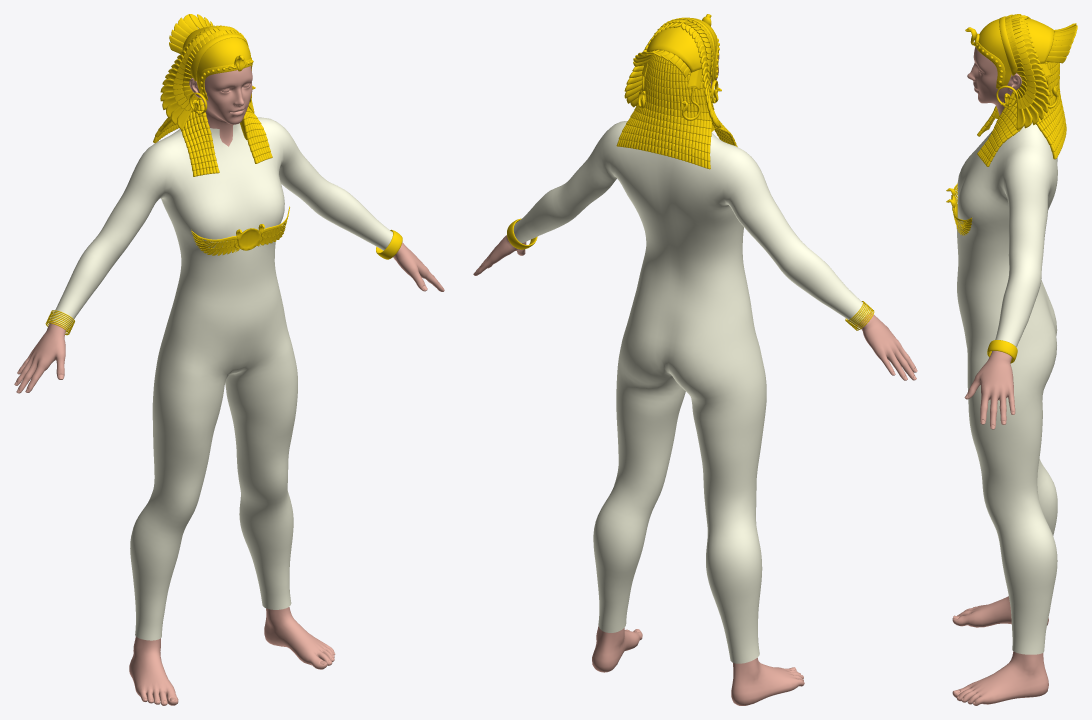
File: cleo-single.glb
The picture shows the model from 3 angles, left to right: view 1: azimuth 30°, elevation 25°; view 2: azimuth 150°, elevation 25°; view 3: azimuth 270°, elevation 25°; orthographic projection. The views are drawn at different scales.
Visible parts, largest first — view 1: Bodysuit_low.001; view 2: Bodysuit_low.001; view 3: Bodysuit_low.001.
Boxes of the visible parts, x1,y1,x2,y2 form: Bodysuit_low.001: [14, 14, 444, 705]; Bodysuit_low.001: [473, 14, 917, 705]; Bodysuit_low.001: [946, 14, 1077, 705].
Bounding box in the file's own units: 1.19 × 1.7 × 0.3139.
